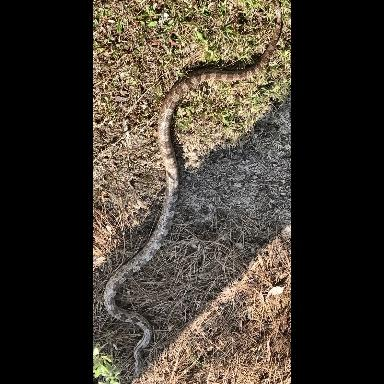snake: (105, 66, 254, 384)
